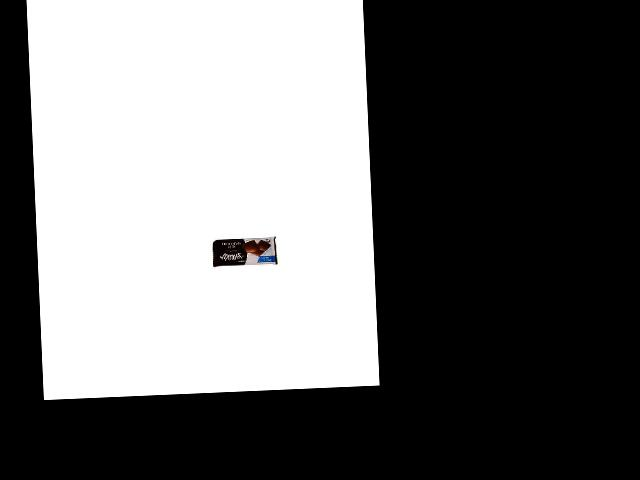chocolate: (212, 235, 278, 268)
